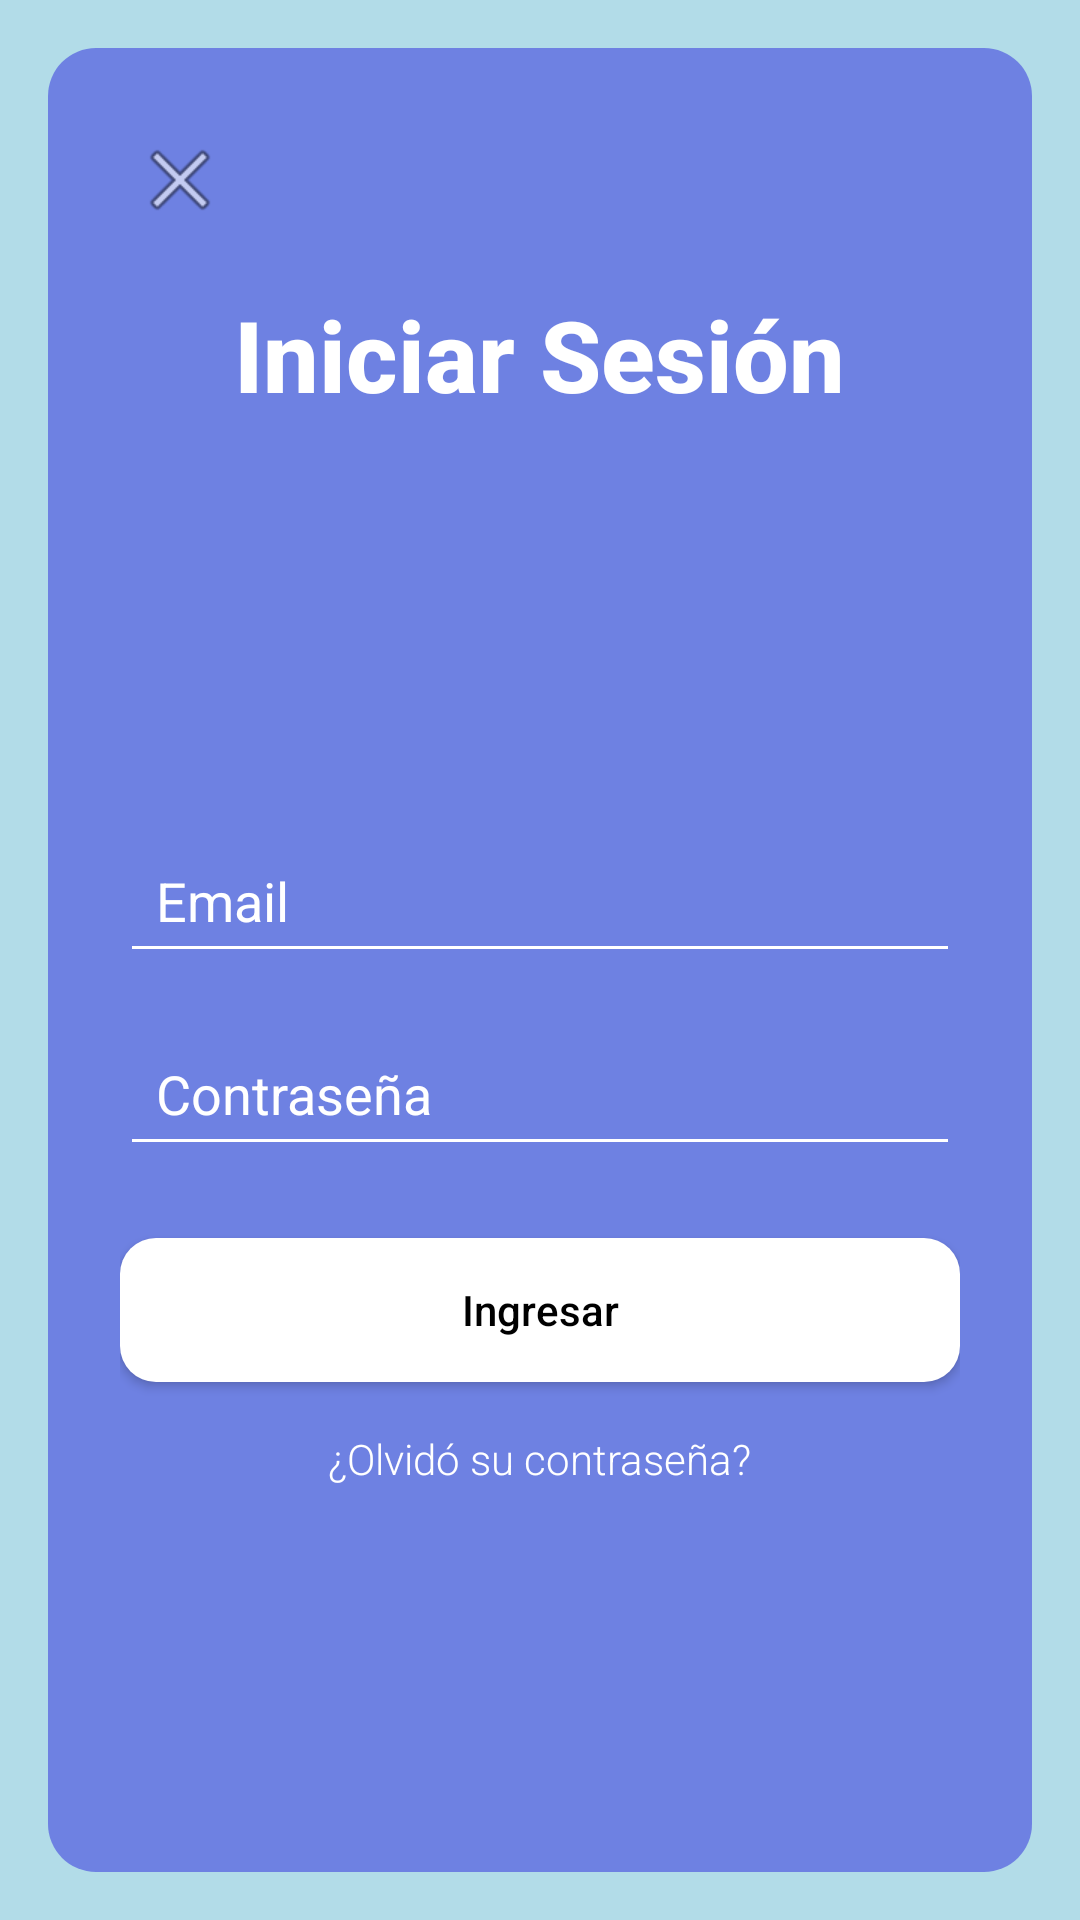

Where to tap for icons on this 1080 × 1920 app screen, as point (x, y):
close clear cancel: point (180, 180)
